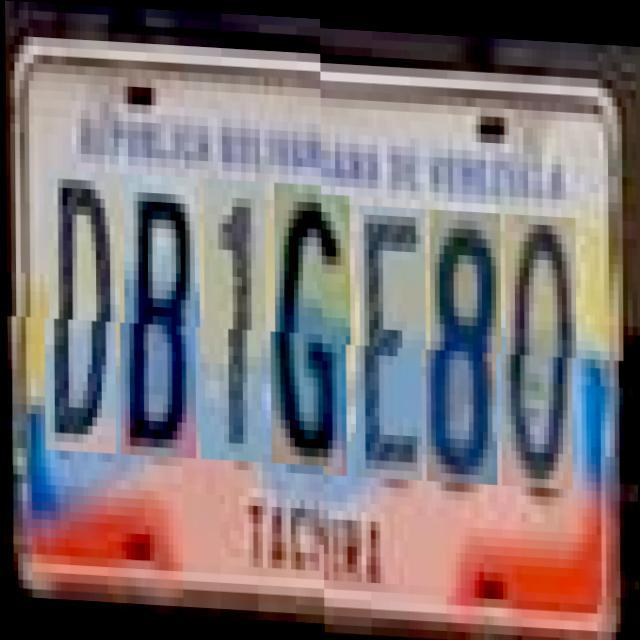1: (204, 185, 266, 468)
8: (429, 204, 502, 479)
B: (124, 181, 200, 465)
D: (48, 178, 120, 462)
E: (358, 200, 426, 476)
G: (274, 188, 351, 472)
O: (505, 208, 577, 482)
